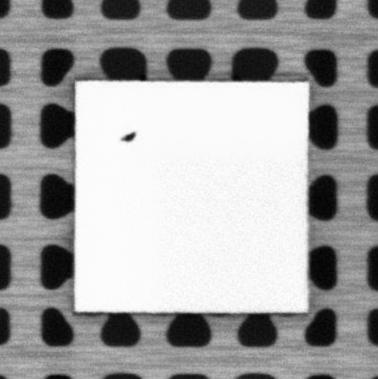DIE_INK: (121, 129, 137, 143)
